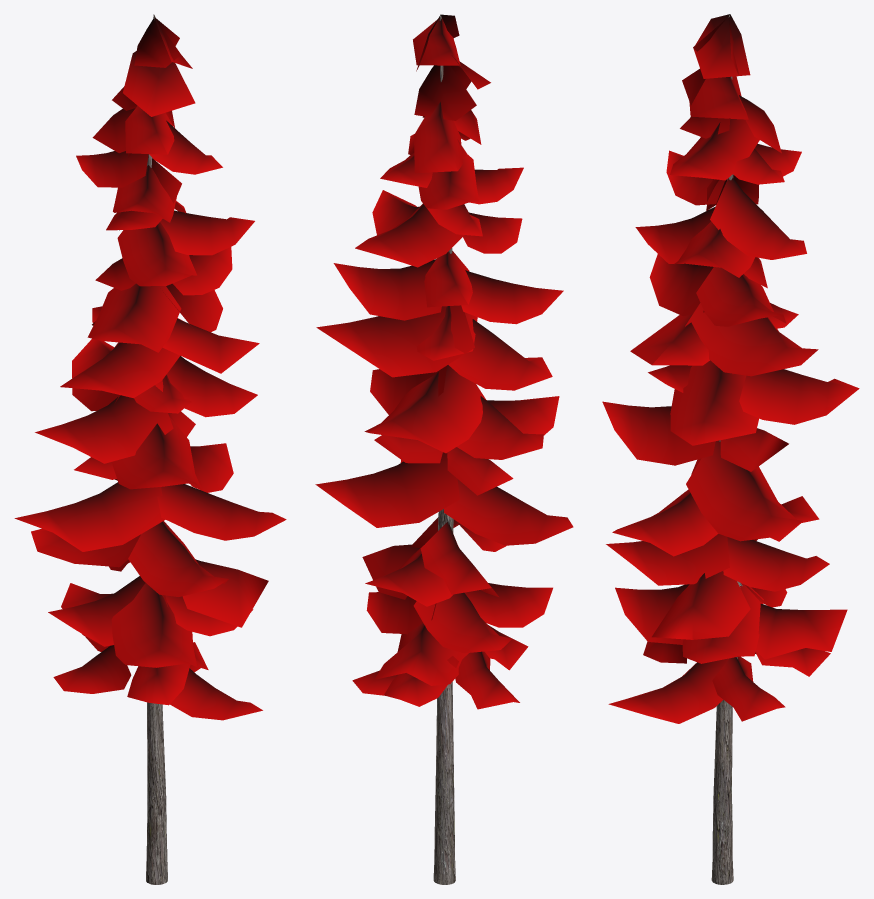
Rendered from SM_PineTree_B_1.FBX.
3 renders of one model, left to right at view 1: azimuth 30°, elevation 25°; view 2: azimuth 150°, elevation 25°; view 3: azimuth 270°, elevation 25°, orthographic.
Visible parts, largest first — view 1: Canopy, Trunk; view 2: Canopy, Trunk; view 3: Canopy, Trunk.
Part boxes in pixels (<box>): Canopy: <box>14,14,286,720</box>; Trunk: <box>146,14,167,884</box>; Canopy: <box>315,14,573,709</box>; Trunk: <box>433,14,455,884</box>; Canopy: <box>602,14,859,723</box>; Trunk: <box>711,15,742,884</box>.
Size of what is drawn, in the model's own units: 117 by 413 by 111.
